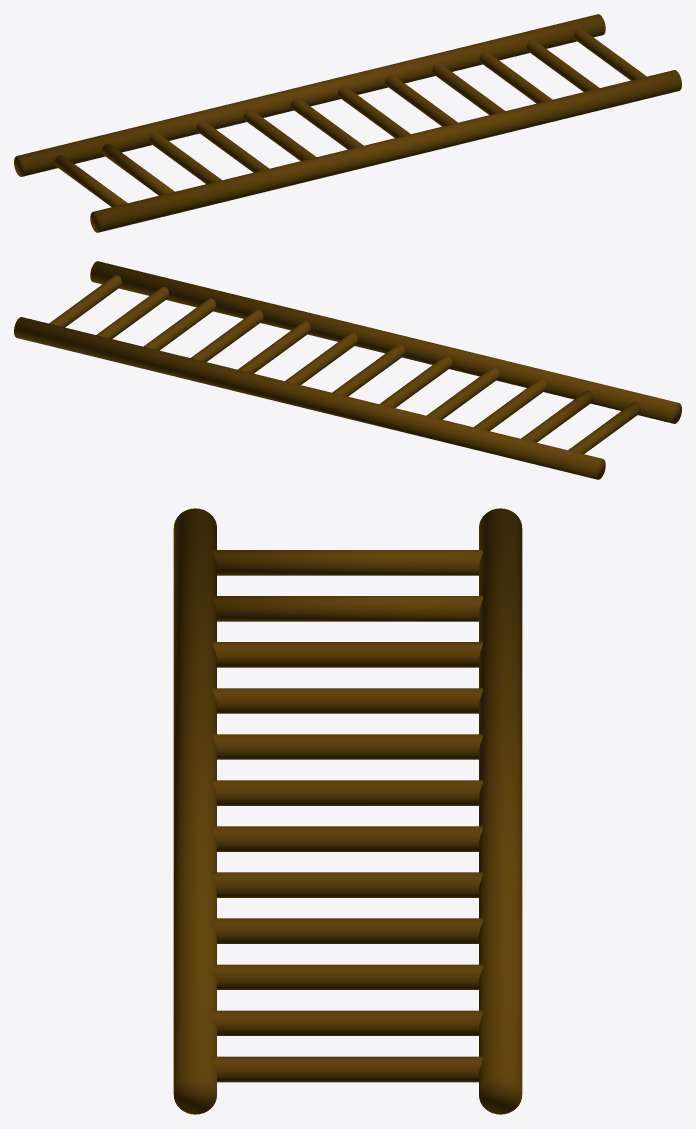
Rendered from ladder.fbx.
3 views of the same model, one above another, from view 1: azimuth 30°, elevation 25°; view 2: azimuth 150°, elevation 25°; view 3: azimuth 270°, elevation 25° (orthographic). The views are drawn at different scales.
Visible parts, largest first — view 1: Wooden_Ladder; view 2: Wooden_Ladder; view 3: Wooden_Ladder.
Part boxes in pixels (x1,y1,x2,y2): Wooden_Ladder: [14, 14, 681, 232]; Wooden_Ladder: [14, 261, 681, 479]; Wooden_Ladder: [173, 508, 522, 1114].
Bounding box in the file's own units: 580 × 18.74 × 151.
